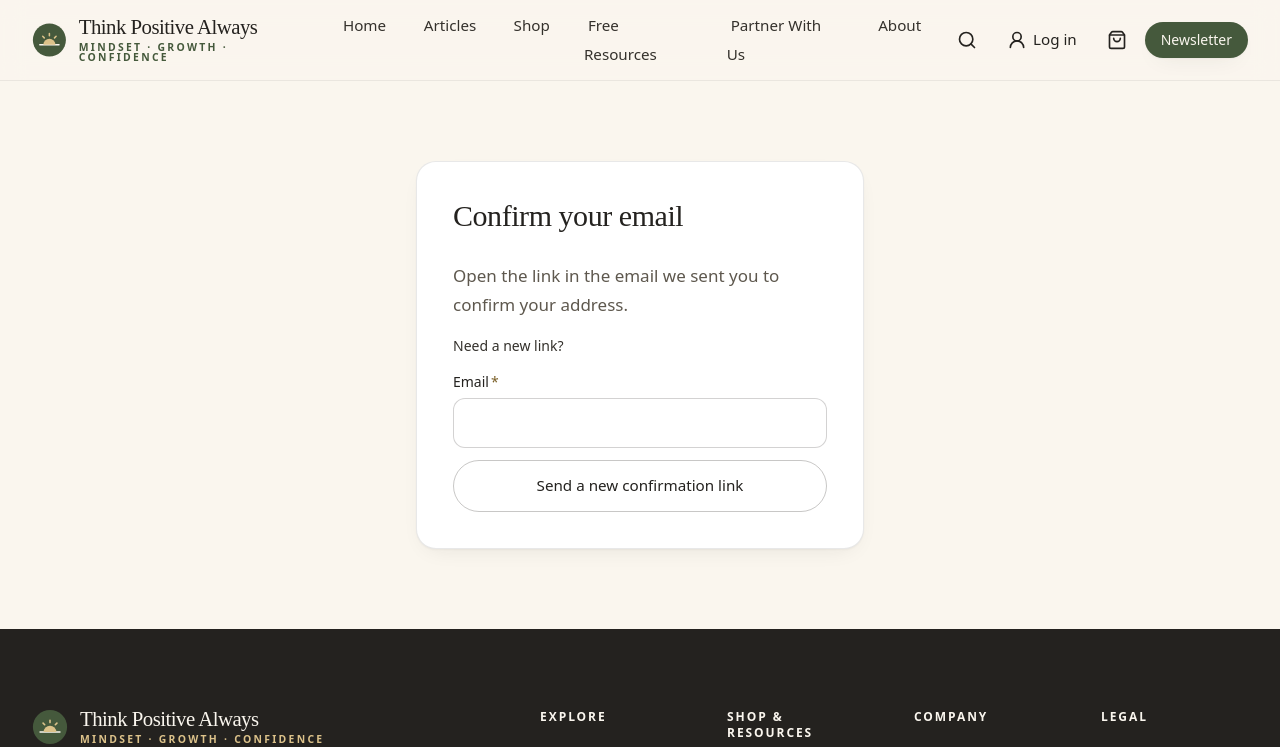
Test: password recovery and email confirmation › confirms an address with a click and offers a new link otherwise
Type "ada@example.com" into the field labelled "Email*" at (640, 423), box [453,398,827,448]
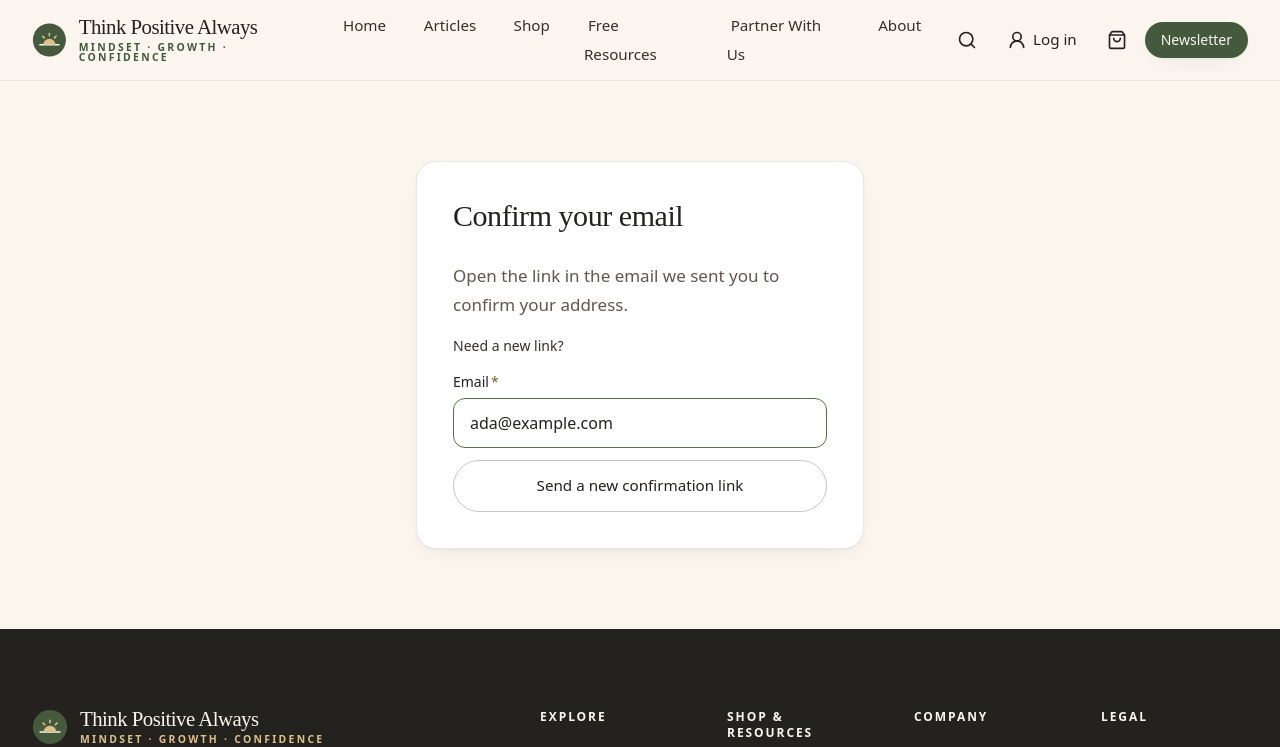
Click the button "Send a new confirmation link" at (640, 486), box [453,460,827,512]
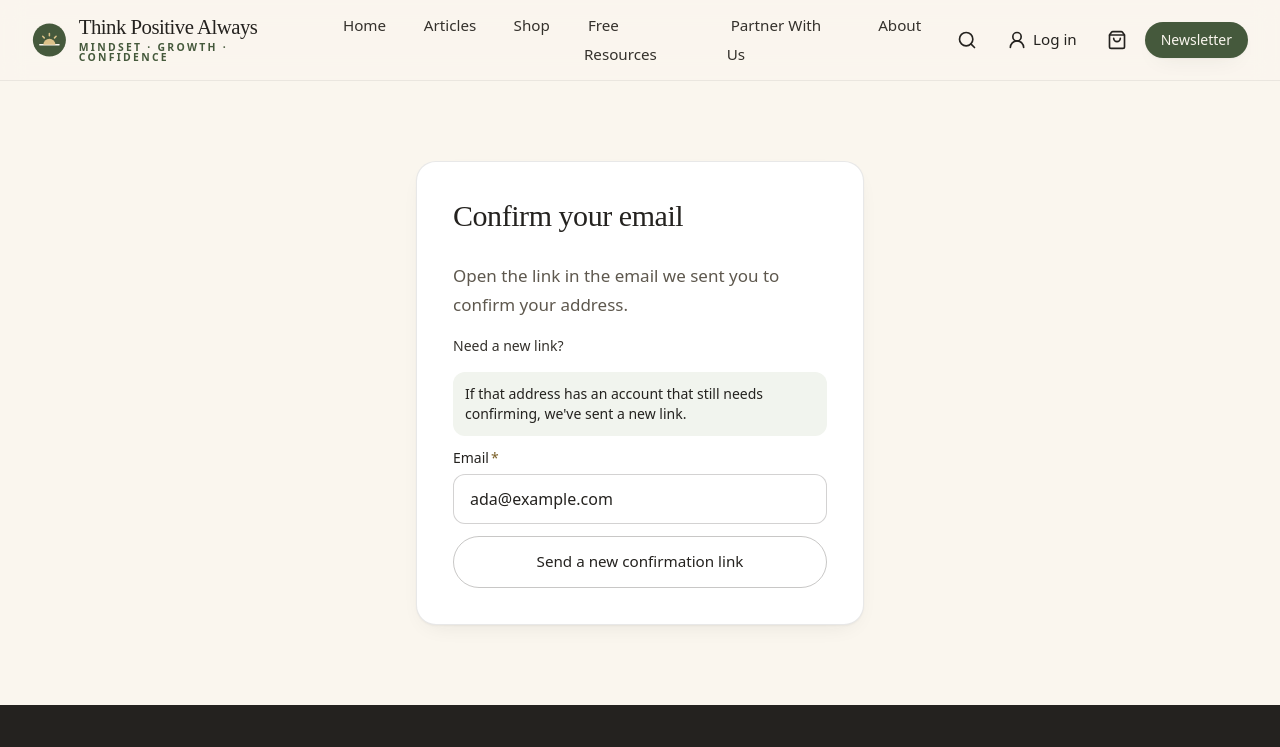
Expected: the text "If that address has an account" is shown, [465,384,763,423]
